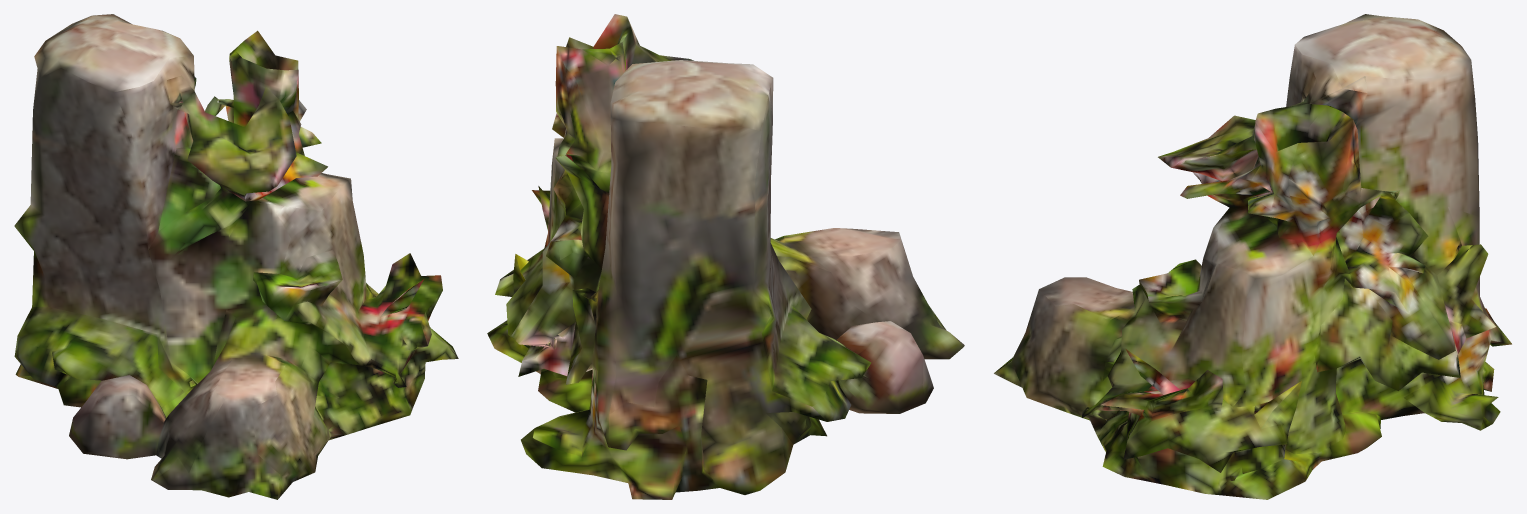
File: SpringDecor_FirstRoom_GardenPillar.fbx
3 views of the same model, side by side, from view 1: azimuth 30°, elevation 25°; view 2: azimuth 150°, elevation 25°; view 3: azimuth 270°, elevation 25° (orthographic). The views are drawn at different scales.
Visible parts, largest first — view 1: SpringDecor_FirstRoom_GardenPillar_Mesh; view 2: SpringDecor_FirstRoom_GardenPillar_Mesh; view 3: SpringDecor_FirstRoom_GardenPillar_Mesh.
Part boxes in pixels (box(x1,y1,x2,y2)): SpringDecor_FirstRoom_GardenPillar_Mesh: box(14, 14, 458, 499); SpringDecor_FirstRoom_GardenPillar_Mesh: box(487, 14, 964, 499); SpringDecor_FirstRoom_GardenPillar_Mesh: box(994, 14, 1511, 499).
Size of the model in its own units: 5.11 by 4.64 by 6.
Materials: 1 (1 with a texture image).
